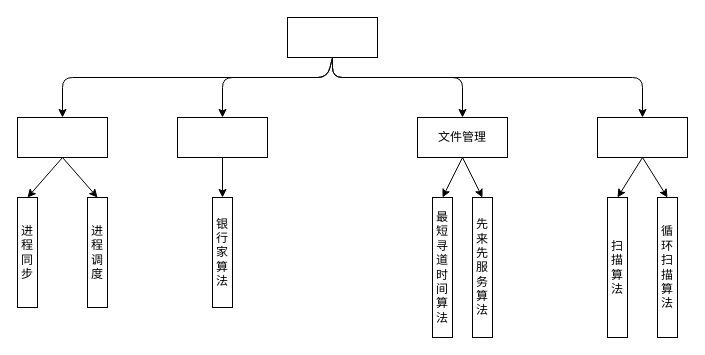
Some shapes in this 705 by 355 pixel diagram are drawn without their labels. Each missing label, with the centre of its shape:
"存储管理" goes at (x=642, y=137).
"操作系统" goes at (x=332, y=37).
"设备管理" goes at (x=222, y=137).
"进程管理" goes at (x=62, y=137).
